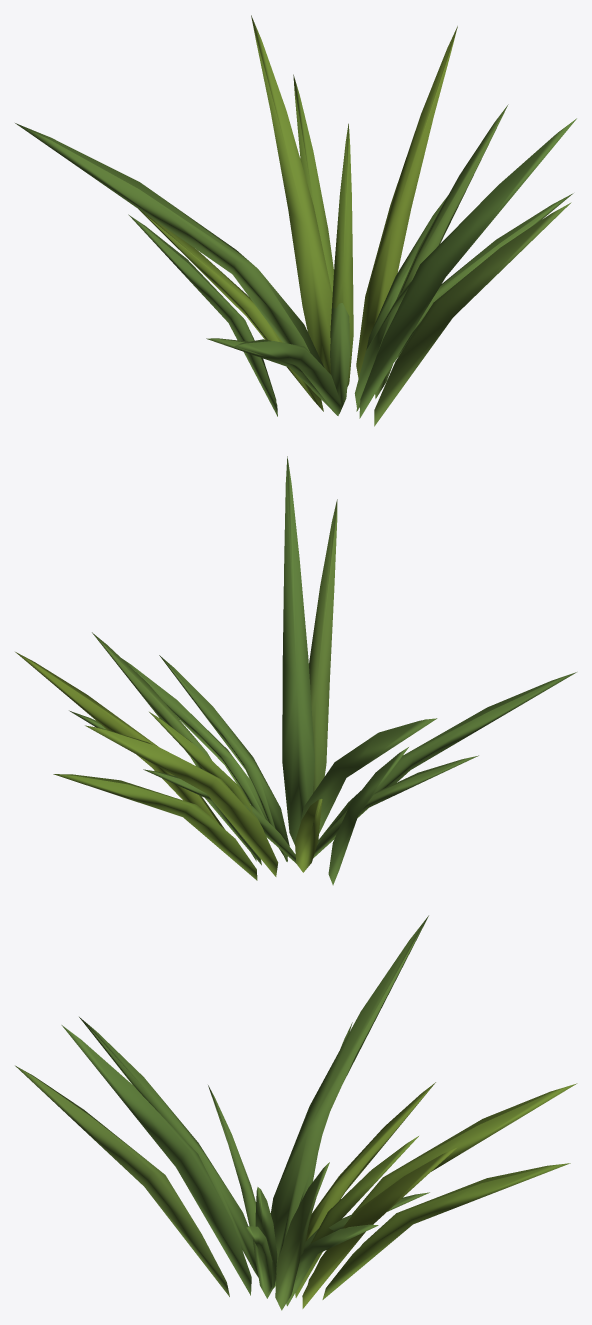
The model's file is tuft_grass_low.glb.
The picture shows the model from 3 angles, top to bottom: view 1: azimuth 30°, elevation 25°; view 2: azimuth 150°, elevation 25°; view 3: azimuth 270°, elevation 25°; orthographic projection. The views are drawn at different scales.
Visible parts, largest first — view 1: Sammel Pflanze; view 2: Sammel Pflanze; view 3: Sammel Pflanze.
Part boxes in pixels (bbox=[...]): Sammel Pflanze: bbox=[15, 15, 576, 426]; Sammel Pflanze: bbox=[15, 456, 576, 885]; Sammel Pflanze: bbox=[15, 915, 577, 1310].
Size of the model in its own units: 0.2365 by 0.1703 by 0.268.
